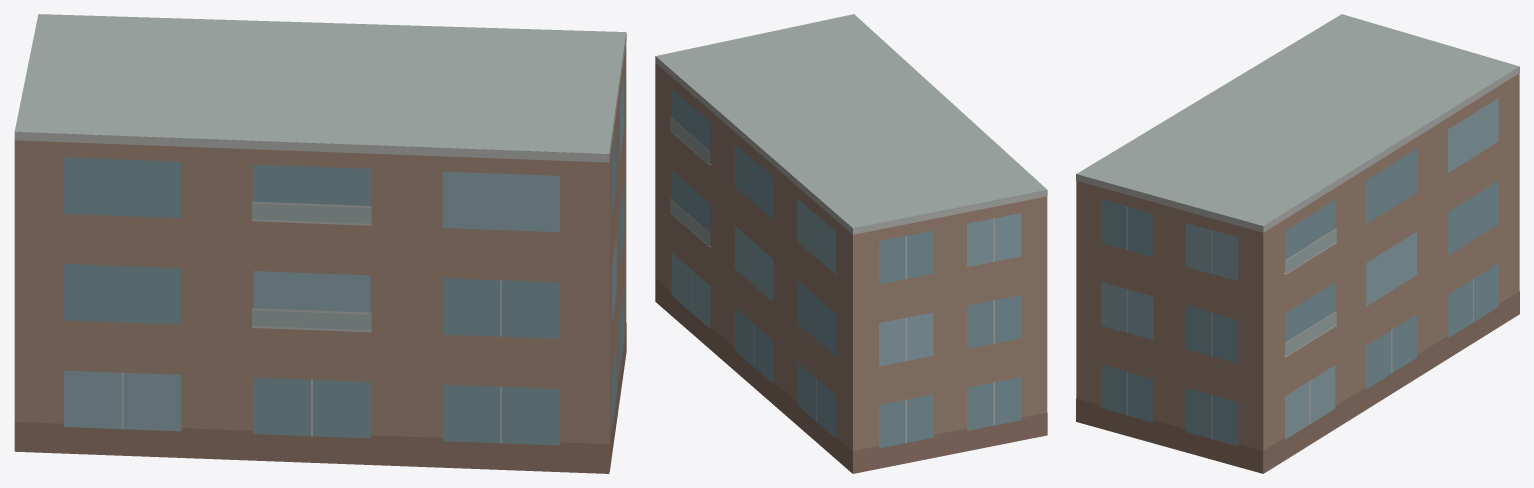
The model's file is survey-upis-32787544.glb.
3 views of the same model, side by side, from view 1: azimuth 30°, elevation 25°; view 2: azimuth 150°, elevation 25°; view 3: azimuth 270°, elevation 25° (orthographic). The views are drawn at different scales.
Parts seen in each view (by area): view 1: survey-upis-32787544.tmp; view 2: survey-upis-32787544.tmp; view 3: survey-upis-32787544.tmp.
Boxes of the visible parts, bbox=[...] form: survey-upis-32787544.tmp: bbox=[14, 14, 626, 473]; survey-upis-32787544.tmp: bbox=[655, 14, 1047, 473]; survey-upis-32787544.tmp: bbox=[1076, 14, 1519, 473].
Size of the model in its own units: 16.81 by 9.15 by 14.85.
